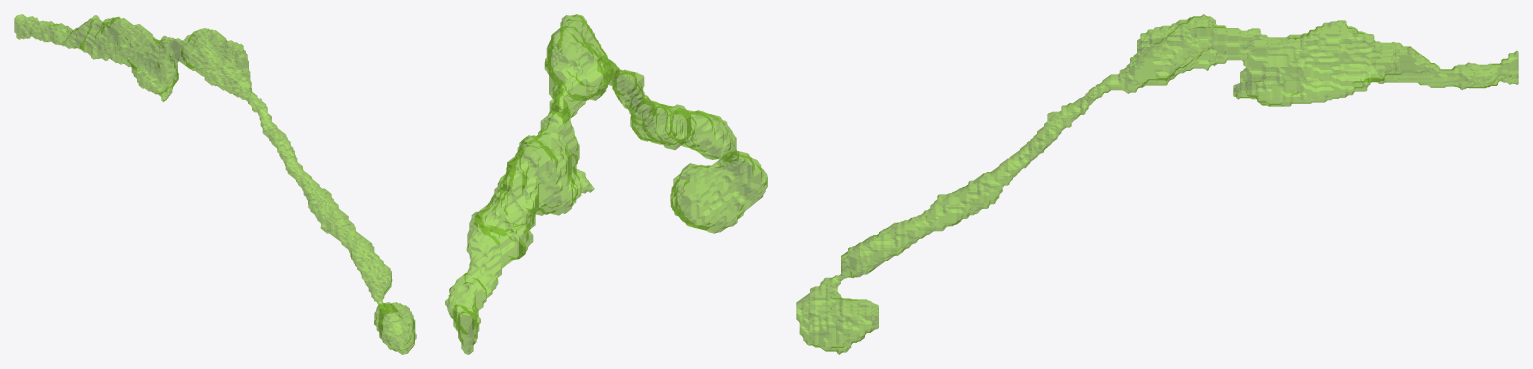
File: neuron_3153.obj
3 views of the same model, side by side, from view 1: azimuth 30°, elevation 25°; view 2: azimuth 150°, elevation 25°; view 3: azimuth 270°, elevation 25° (orthographic). The views are drawn at different scales.
Visible parts, largest first — view 1: Kasthuri15__3153_Objects.Neurons.Axons.Excitatory_Axons.Daniels; view 2: Kasthuri15__3153_Objects.Neurons.Axons.Excitatory_Axons.Daniels; view 3: Kasthuri15__3153_Objects.Neurons.Axons.Excitatory_Axons.Daniels.
Boxes of the visible parts, x1,y1,x2,y2 form: Kasthuri15__3153_Objects.Neurons.Axons.Excitatory_Axons.Daniels: (14,14,416,354); Kasthuri15__3153_Objects.Neurons.Axons.Excitatory_Axons.Daniels: (445,14,767,354); Kasthuri15__3153_Objects.Neurons.Axons.Excitatory_Axons.Daniels: (796,14,1518,354).
Bounding box in the file's own units: 1.85 × 2.88 × 6.3.
